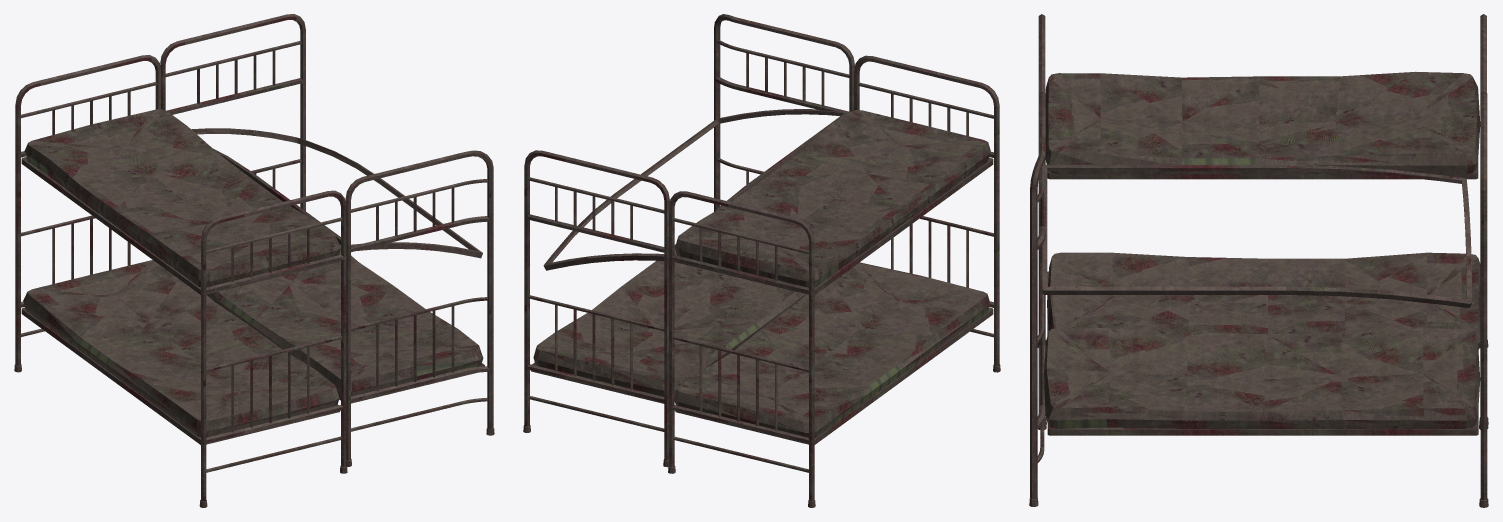
The model's file is Bed.fbx.
The picture shows the model from 3 angles, left to right: view 1: azimuth 30°, elevation 25°; view 2: azimuth 150°, elevation 25°; view 3: azimuth 270°, elevation 25°; orthographic projection. The views are drawn at different scales.
Parts seen in each view (by area): view 1: Normal_Bed, Broken; view 2: Normal_Bed, Broken; view 3: Normal_Bed, Broken.
Boxes of the visible parts, left/top/right/bottom form: Normal_Bed: left=14, top=55, right=347, bottom=507; Broken: left=160, top=14, right=494, bottom=466; Normal_Bed: left=668, top=55, right=1000, bottom=507; Broken: left=523, top=14, right=854, bottom=467; Normal_Bed: left=1037, top=14, right=1488, bottom=429; Broken: left=1029, top=91, right=1488, bottom=507.
Size of the model in its own units: 2120 by 2017 by 2425.
